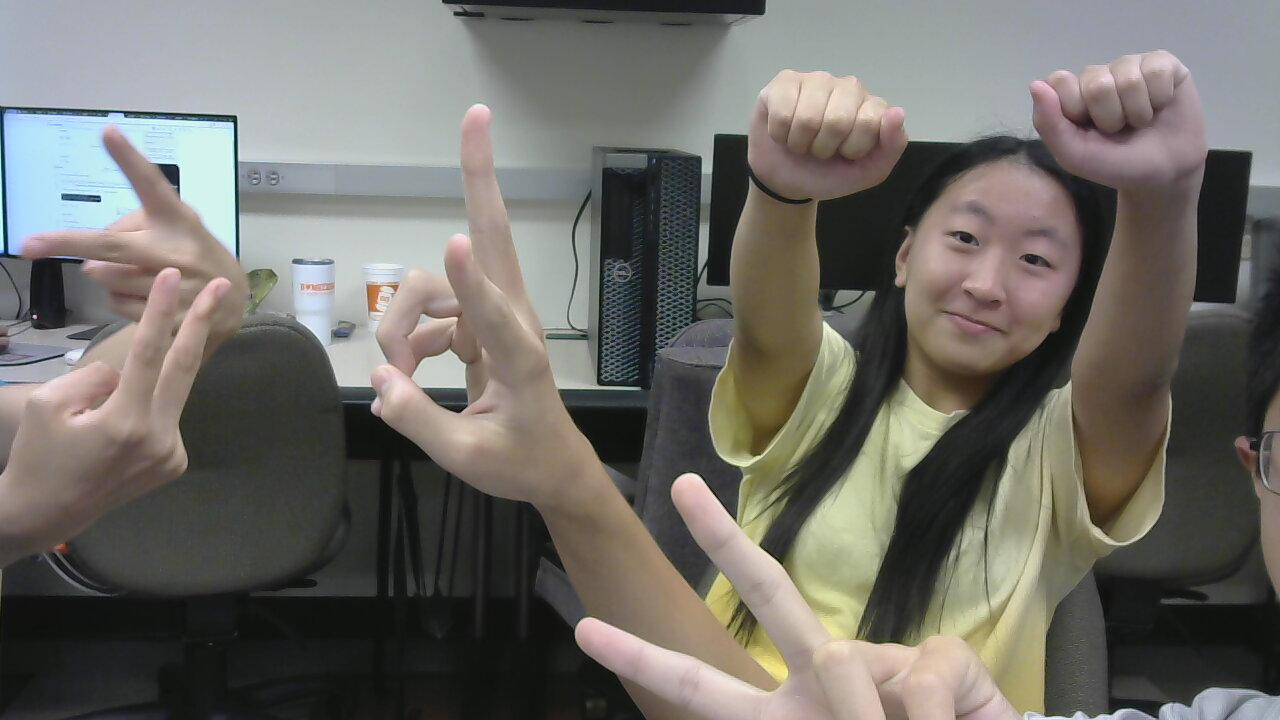fist: (1031, 45, 1213, 197), (736, 63, 910, 207)
peace: (569, 450, 1051, 720), (342, 98, 579, 510), (6, 263, 239, 542), (14, 120, 257, 335)
